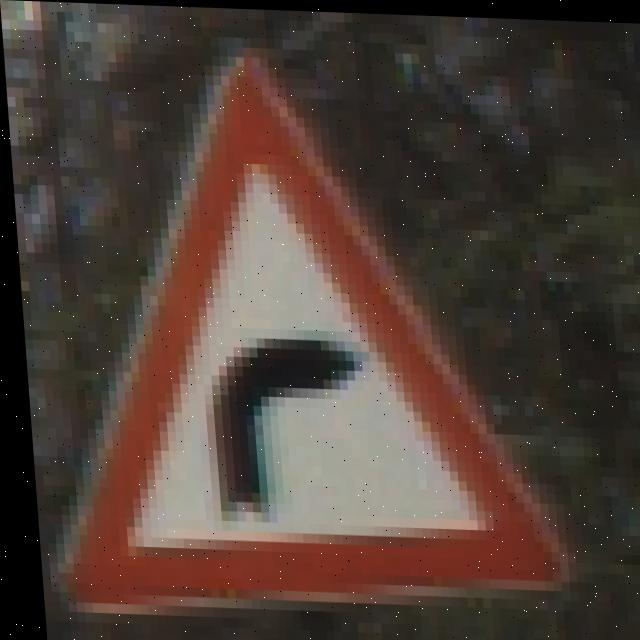right_turn: (34, 64, 573, 615)
